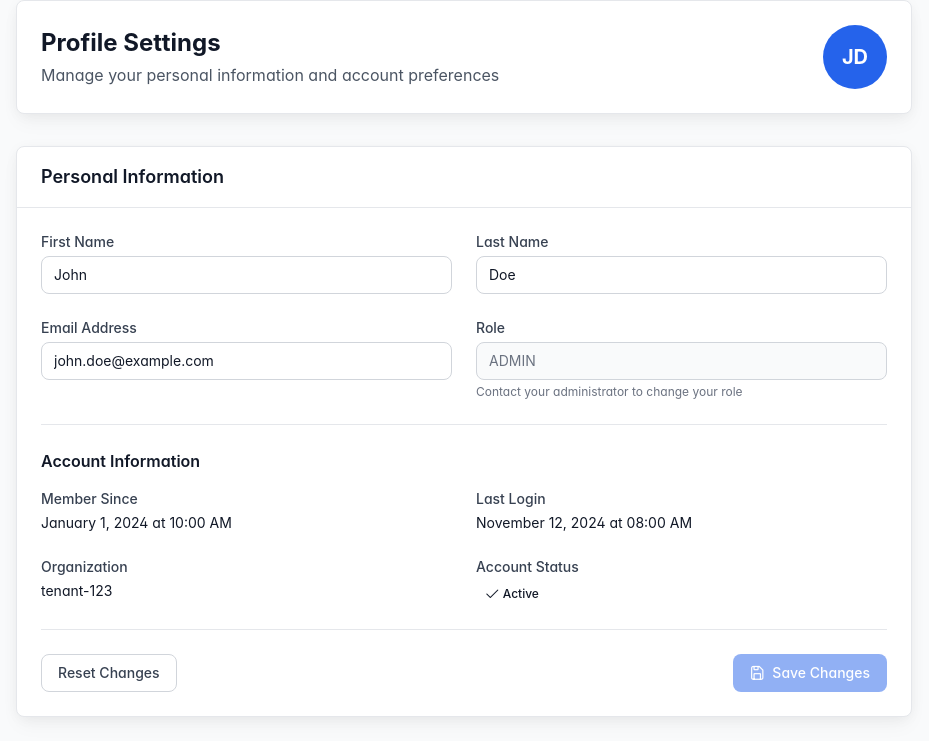
it: ProfileView › Form Validation › should validate email format
Replace the text in the field with id "email" with "invalid-email": (246, 361) [41,342,452,380]
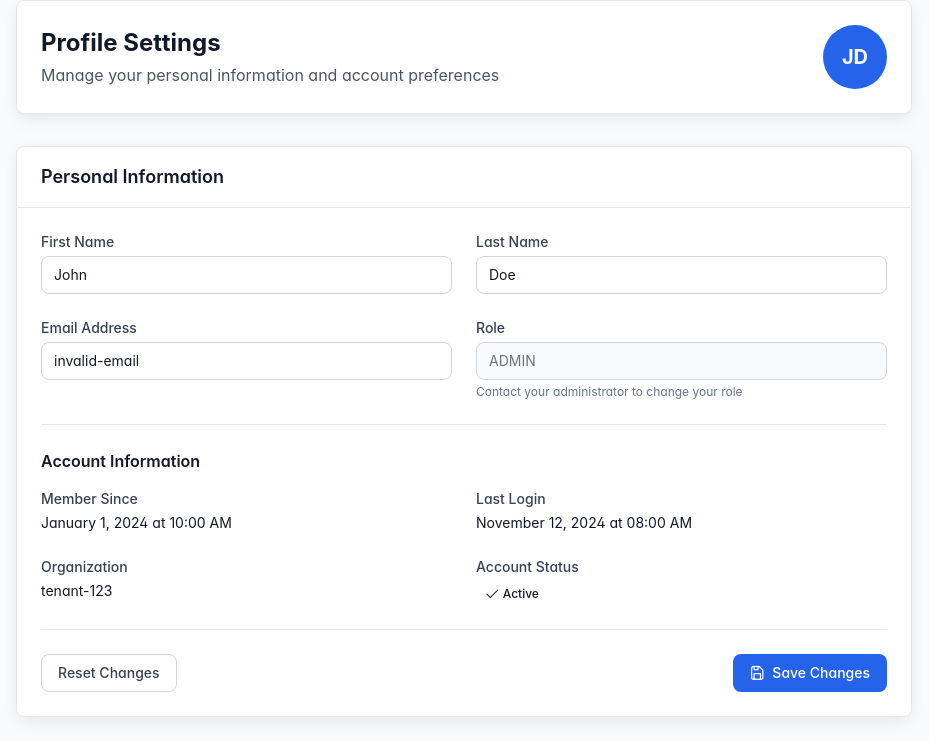
Submit the form
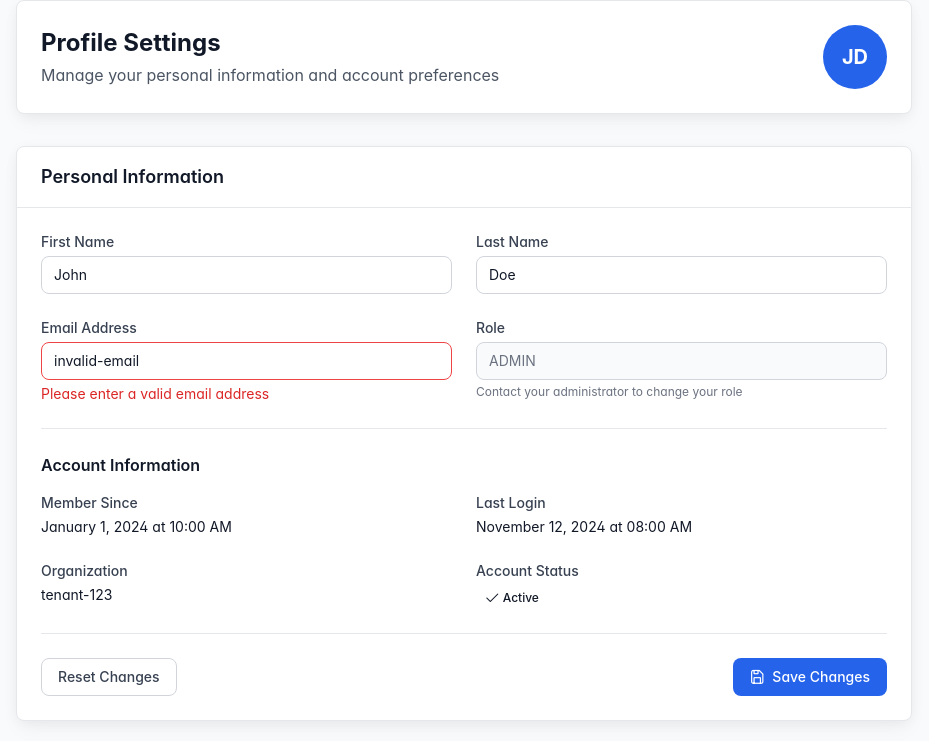
Expected: the text "Please enter a valid email address" is shown, [41,385,269,402]
